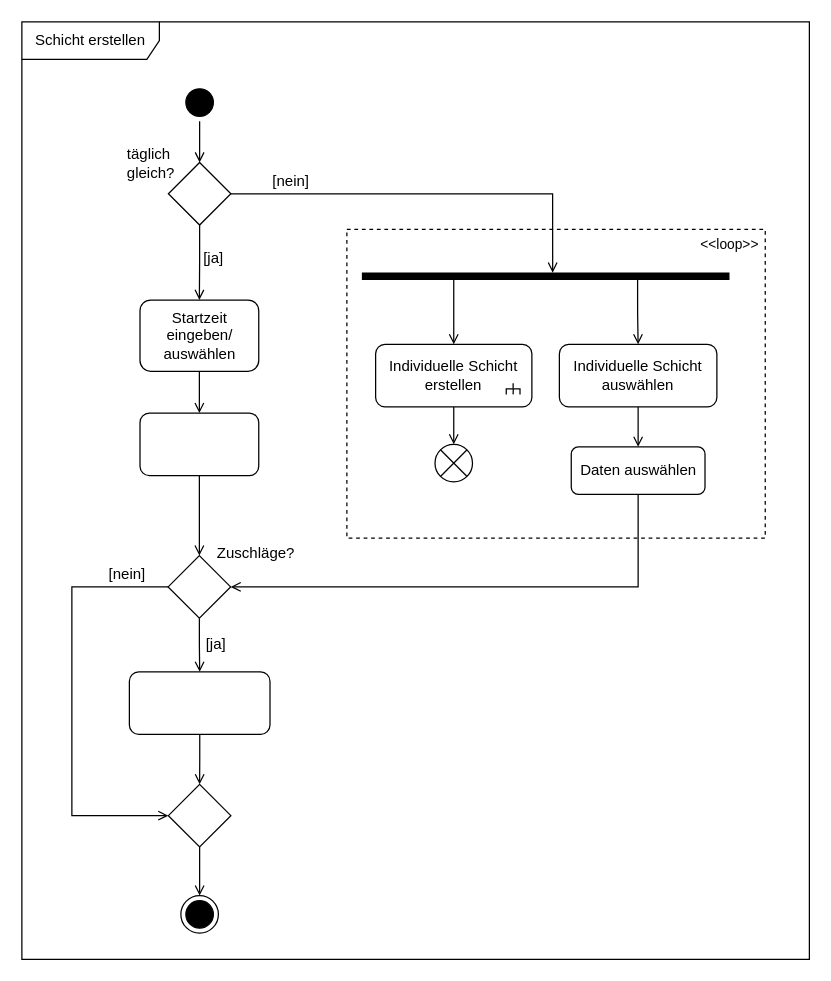
This 831x981 diagram has some shape labels left out. The centre of each missing label's shape, as x and y in pixels:
Endzeit eingeben/ auswählen: the point at 199,444
Zuschlagsf enster festlegen: the point at 199,702
